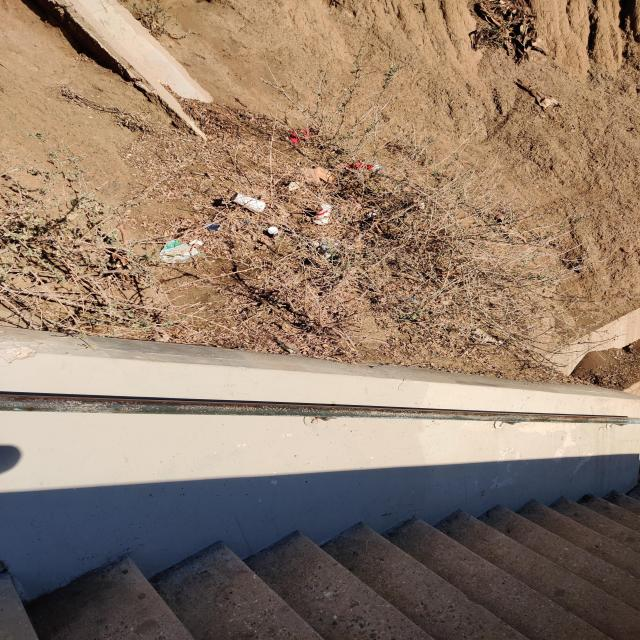litter: (161, 235, 201, 264), (231, 192, 268, 214), (309, 203, 335, 226)
